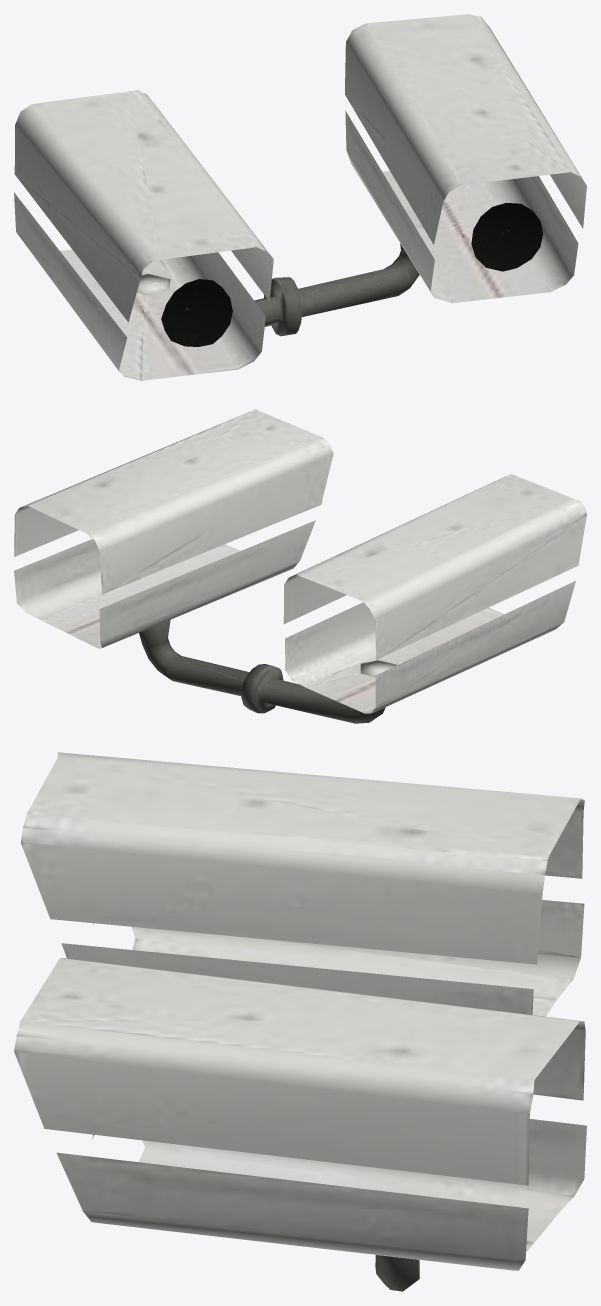
The model's file is security_cameras.glb.
3 views of the same model, one above another, from view 1: azimuth 30°, elevation 25°; view 2: azimuth 150°, elevation 25°; view 3: azimuth 270°, elevation 25° (orthographic). The views are drawn at different scales.
Size of the model in its own units: 1.2 by 0.4966 by 0.8332.
Materials: 1 (1 with a texture image).
